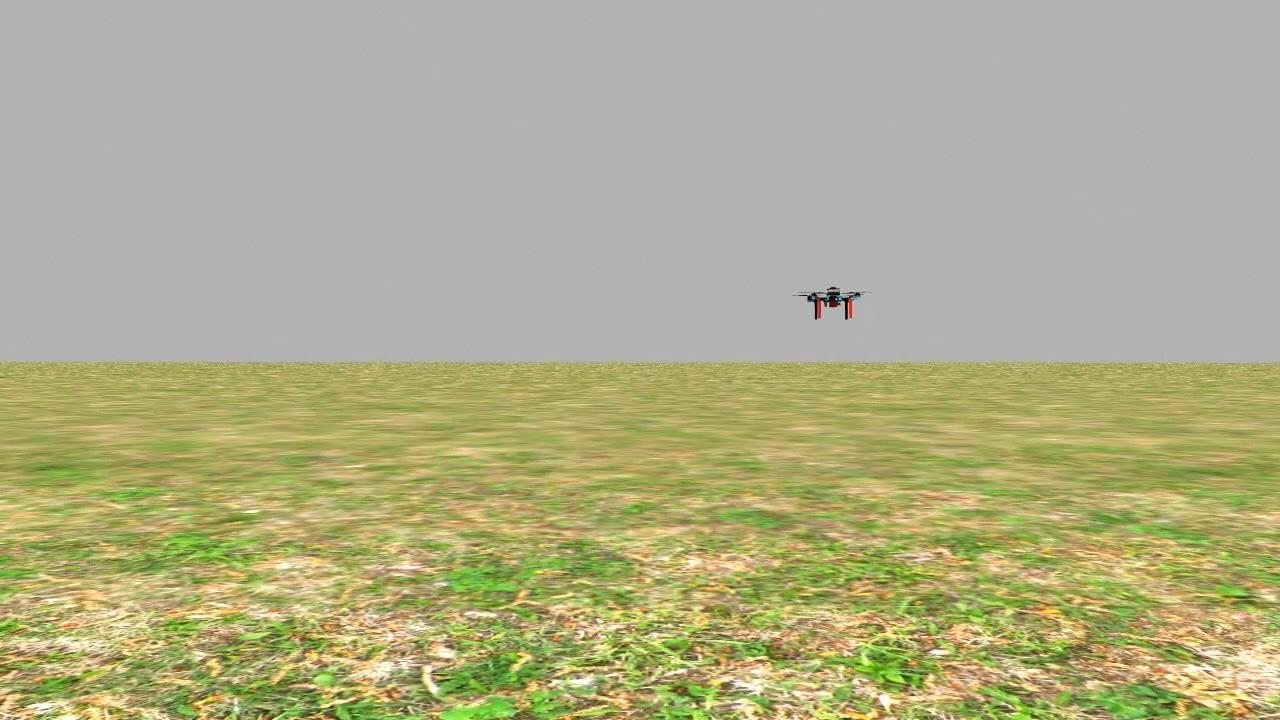UAV: (794, 264, 868, 339)
